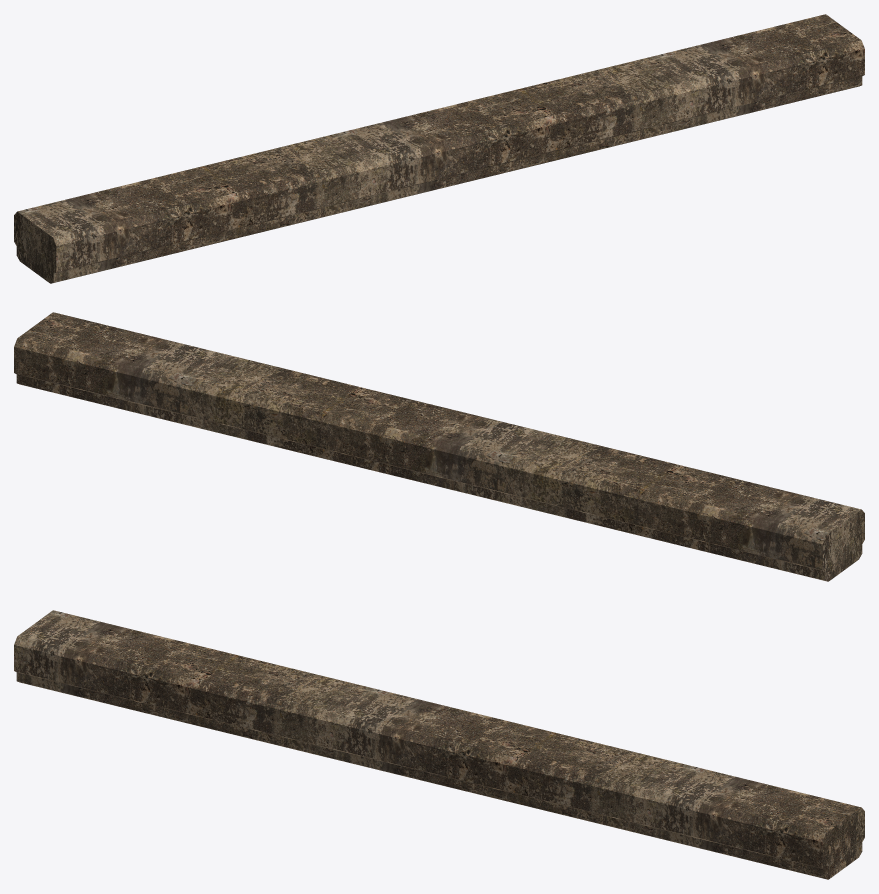
File: materials_5_stonestick_middle_5.fbx
The picture shows the model from 3 angles, top to bottom: view 1: azimuth 30°, elevation 25°; view 2: azimuth 150°, elevation 25°; view 3: azimuth 330°, elevation 25°; orthographic projection.
Visible parts, largest first — view 1: materials_5_stonestick_middle_5; view 2: materials_5_stonestick_middle_5; view 3: materials_5_stonestick_middle_5.
Boxes of the visible parts, x1,y1,x2,y2 form: materials_5_stonestick_middle_5: (14, 14, 864, 283); materials_5_stonestick_middle_5: (14, 312, 864, 581); materials_5_stonestick_middle_5: (14, 610, 864, 879).
Size of the model in its own units: 289 by 16.4 by 26.21.
